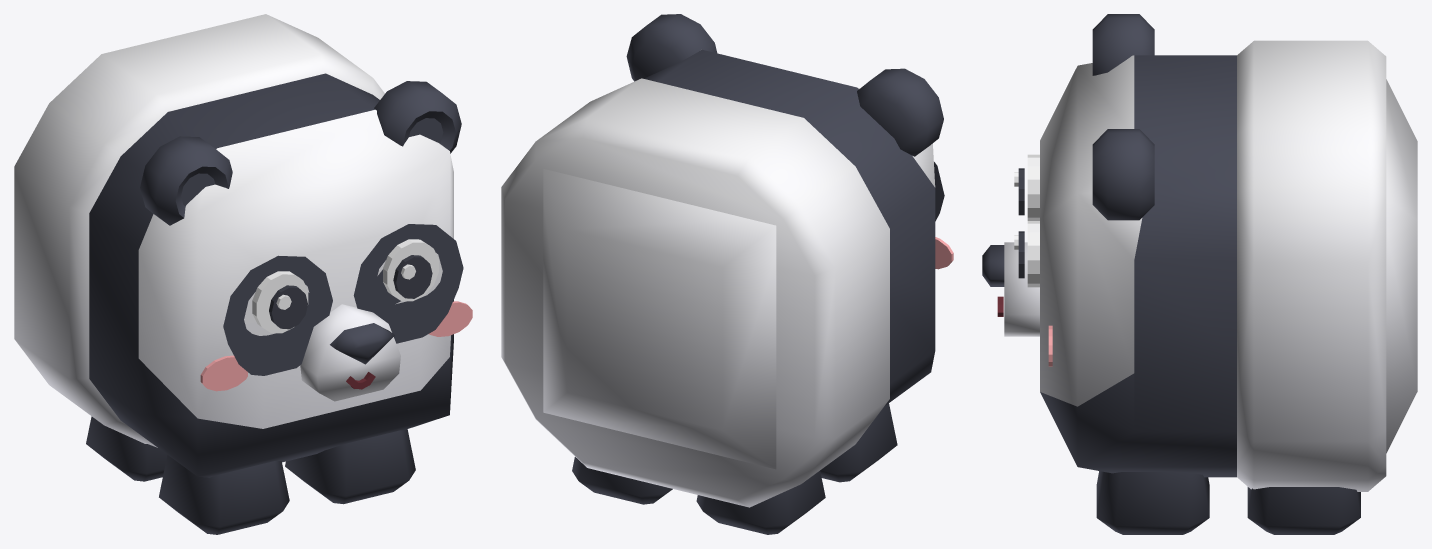
File: panda.glb
3 views of the same model, side by side, from view 1: azimuth 30°, elevation 25°; view 2: azimuth 150°, elevation 25°; view 3: azimuth 270°, elevation 25° (orthographic). The views are drawn at different scales.
Visible parts, largest first — view 1: body, leg-front-right, leg-front-left, leg-back-right; view 2: body, leg-back-right, leg-front-right, leg-back-left; view 3: body, leg-front-left, leg-back-left.
Boxes of the visible parts, box(x1,y1,x2,y2) form: body: box(14, 14, 472, 477); leg-front-right: box(159, 455, 289, 534); leg-front-left: box(285, 429, 415, 504); leg-back-right: box(86, 416, 167, 481); body: box(501, 14, 953, 507); leg-back-right: box(696, 470, 825, 534); leg-front-right: box(820, 403, 897, 482); leg-back-left: box(572, 457, 672, 504); body: box(982, 14, 1417, 491); leg-front-left: box(1096, 471, 1209, 534); leg-back-left: box(1247, 487, 1360, 534).
Bounding box in the file's own units: 1.34 × 1.5 × 1.44.
Materials: 1 (1 with a texture image).
